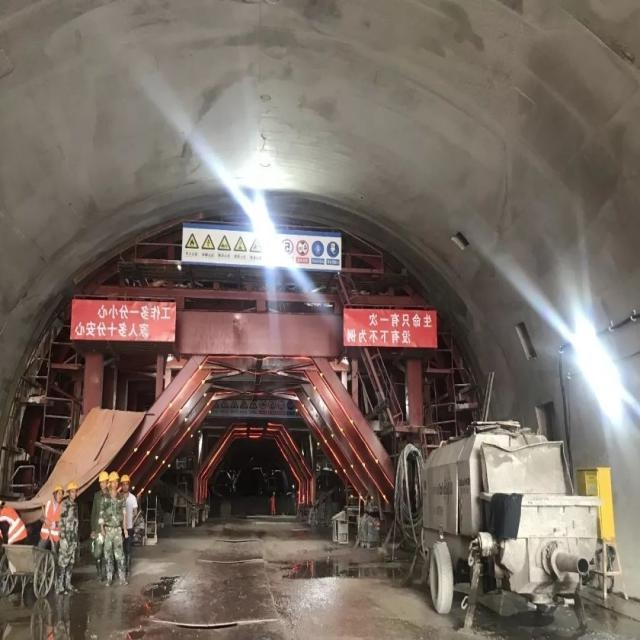Con_Chaleco: (0, 506, 27, 544), (40, 502, 63, 542)
Sin_Chaleco: (100, 491, 124, 529)
